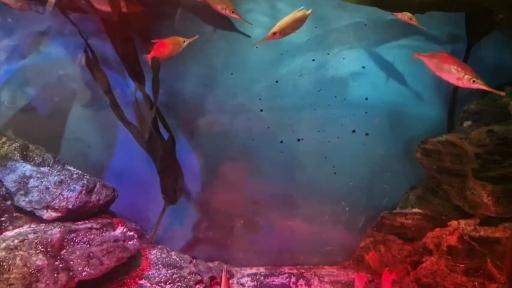Fish: (414, 52, 505, 96), (366, 50, 422, 99), (175, 2, 250, 38), (255, 7, 312, 46), (145, 35, 198, 62), (198, 0, 252, 25), (392, 12, 426, 29), (366, 251, 384, 272), (0, 0, 31, 10), (382, 269, 396, 287), (221, 266, 230, 287), (354, 274, 366, 287), (46, 0, 56, 13)
